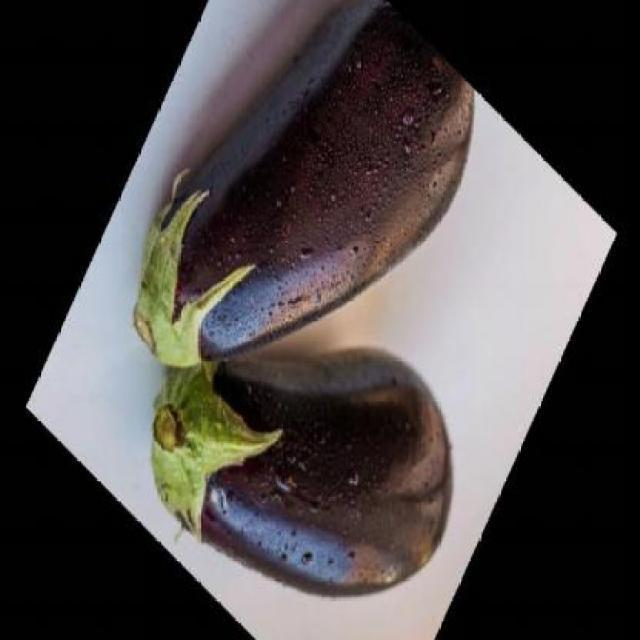eggplant: (132, 0, 482, 371), (144, 268, 462, 602)
